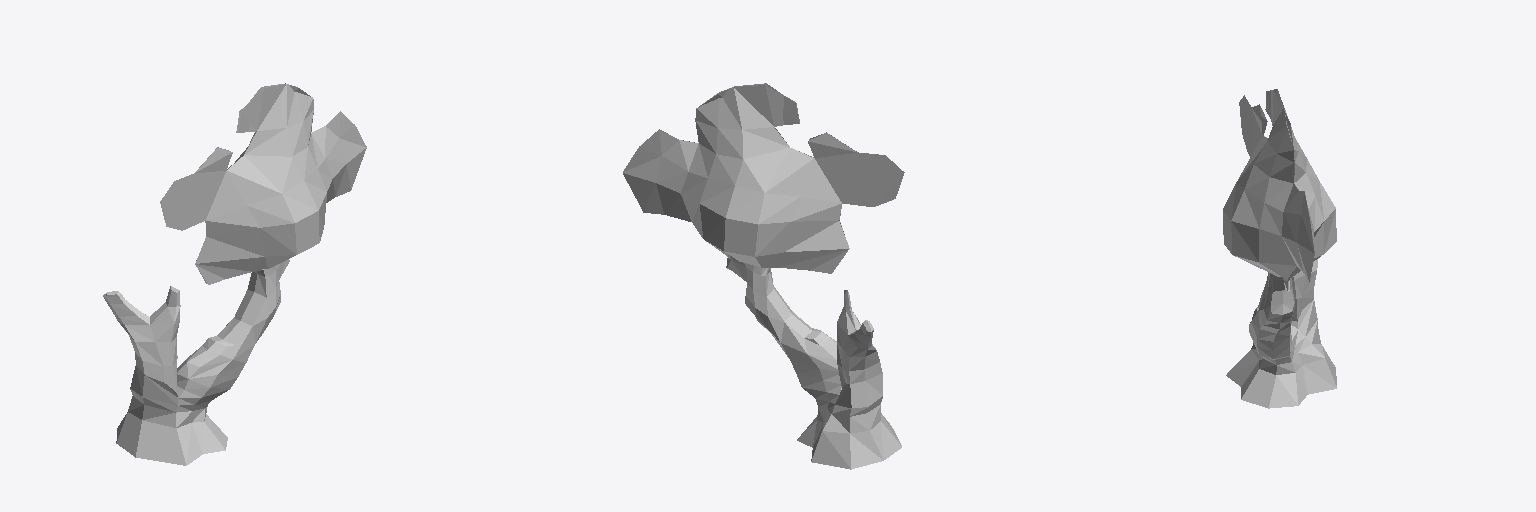
The model's file is tree4.obj.
3 views of the same model, side by side, from view 1: azimuth 30°, elevation 25°; view 2: azimuth 150°, elevation 25°; view 3: azimuth 270°, elevation 25° (orthographic).
Visible parts, largest first — view 1: juniper_2_twist_Cube.009; view 2: juniper_2_twist_Cube.009; view 3: juniper_2_twist_Cube.009.
Part boxes in pixels (left/top/right/bottom): juniper_2_twist_Cube.009: left=103, top=83, right=366, bottom=465; juniper_2_twist_Cube.009: left=623, top=83, right=904, bottom=469; juniper_2_twist_Cube.009: left=1223, top=89, right=1336, bottom=408.
Bounding box in the file's own units: 9.41 × 11.85 × 3.65.